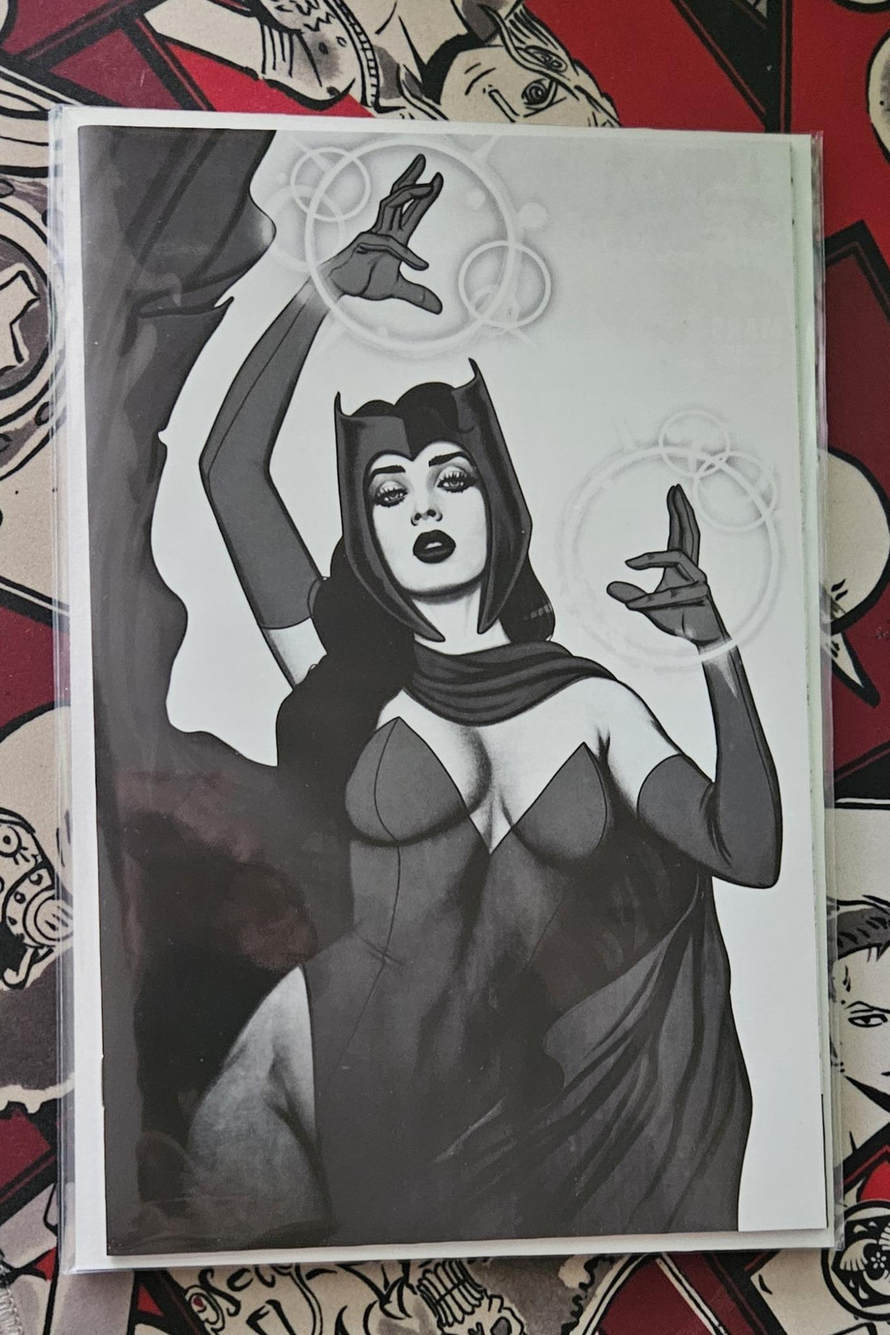comic: (61, 103, 829, 1265)
